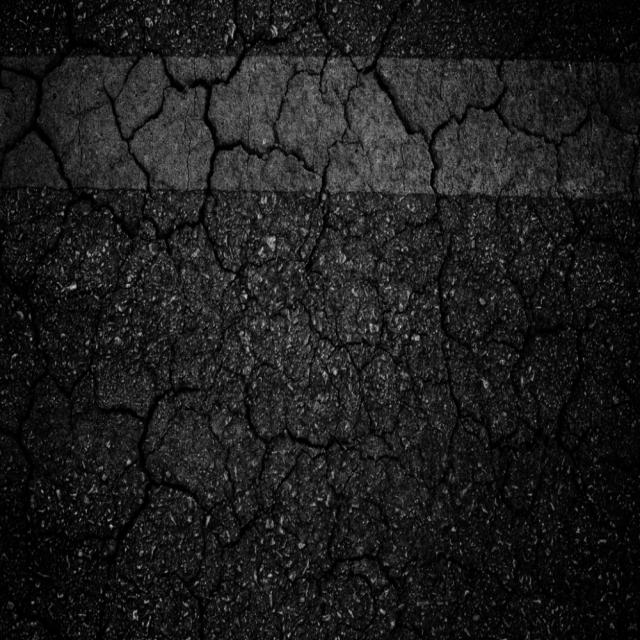Drain Hole: (22, 38, 640, 580)
